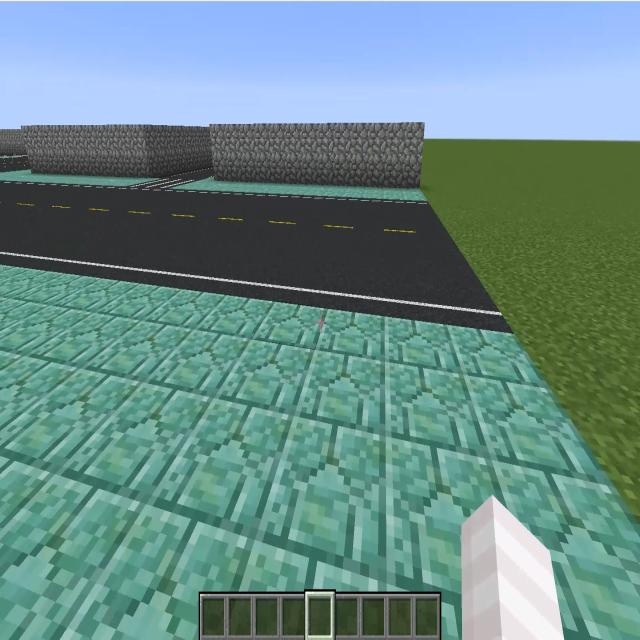crosswalk: (140, 180, 193, 189)
road: (0, 183, 510, 330), (166, 169, 213, 179), (0, 155, 29, 171)
sidewalk: (169, 178, 426, 200), (0, 170, 154, 186)
